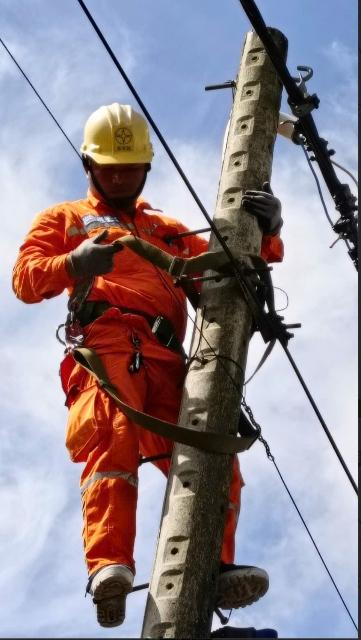gloves: (65, 234, 130, 282)
harness: (30, 288, 216, 365)
helmet: (67, 94, 168, 174)
shoes: (66, 562, 150, 633), (195, 556, 272, 609)
